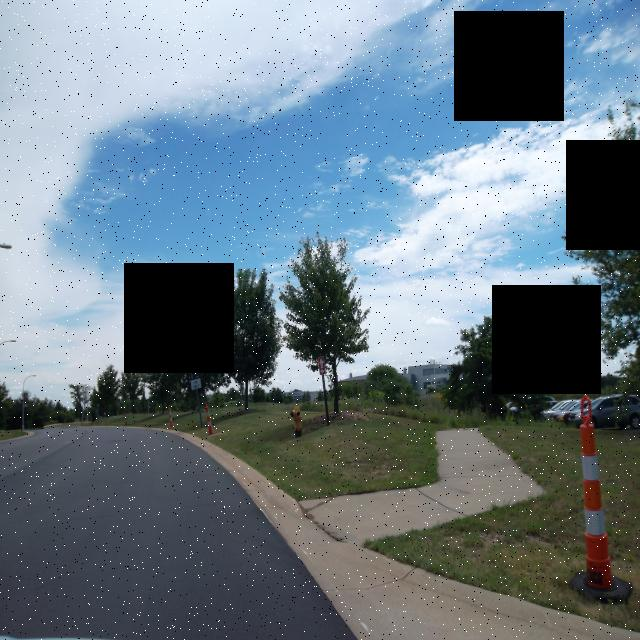regulatory: (185, 352, 202, 374), (189, 369, 202, 394)
